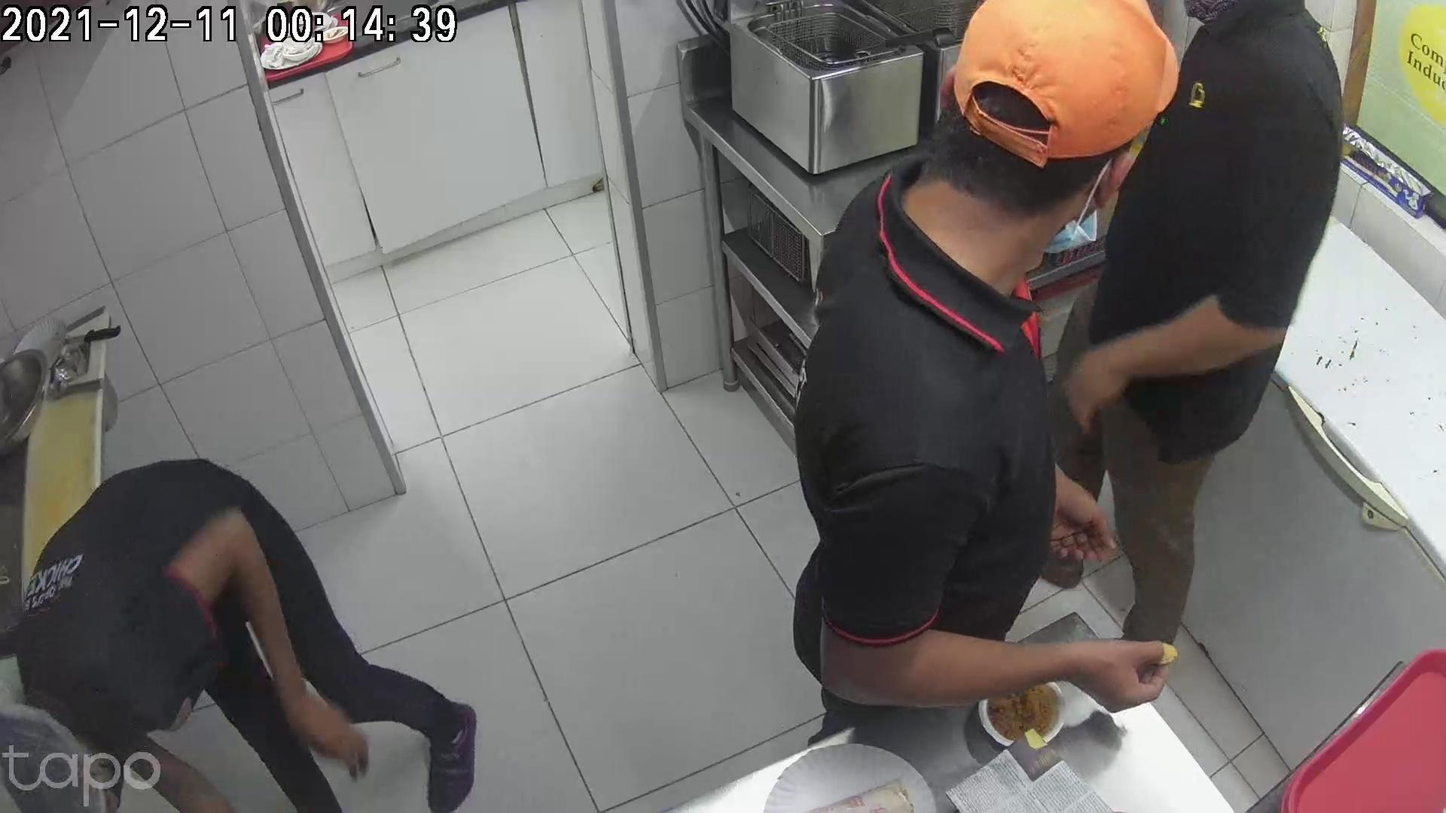gloves: (791, 597, 902, 740)
